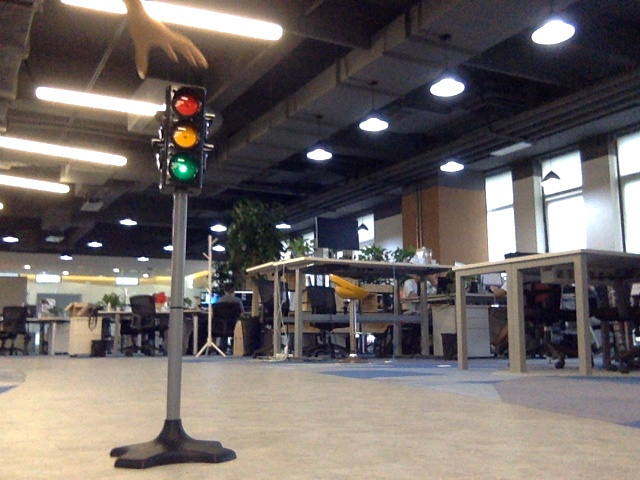green: (168, 95, 197, 182)
